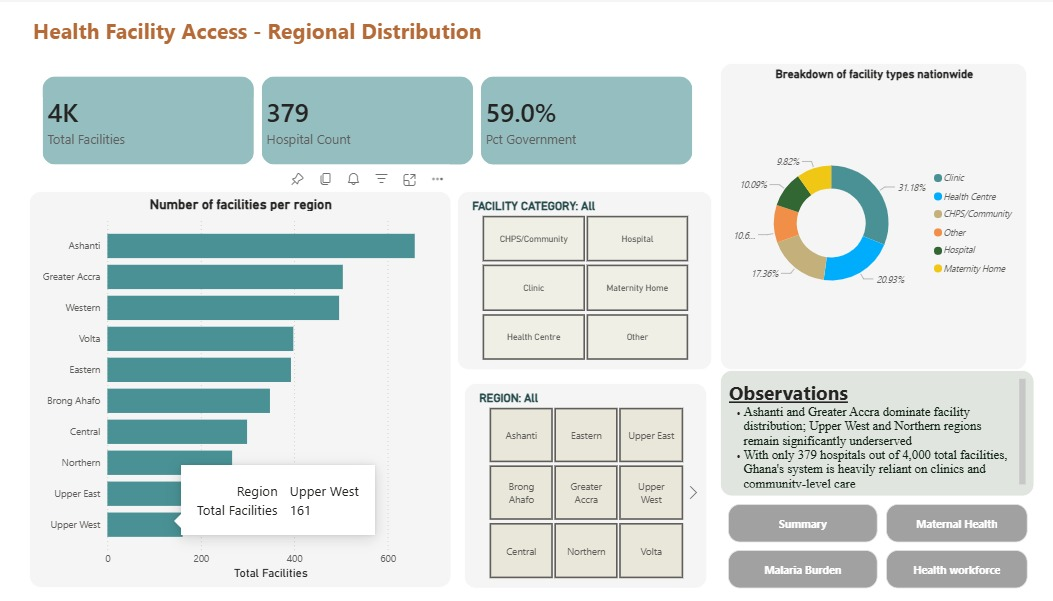

The dashboard page shown, as its layout file describes it:
{"tool":"powerbi","page":{"name":"Facility Access","canvas":[1280,730],"ordinal":0},"visuals":[{"type":"cardVisual","fields":{"Data":["Ghana_Facilities.Total Facilities","Ghana_Facilities.Hospital Count","Ghana_Facilities.Pct Government"]},"box":[15.7,63.9,848.2,144.6],"z":0},{"type":"clusteredBarChart","title":"Number of facilities per region","fields":{"Category":["Ghana_Facilities.Region"],"Y":["Ghana_Facilities.Total Facilities"]},"box":[15.7,224.1,527.7,496.4],"z":1000},{"type":"donutChart","title":"Breakdown of facility types nationwide","fields":{"Category":["Ghana_Facilities.FacilityCategory"],"Y":["Ghana_Facilities.Total Facilities"]},"box":[880,64,384,384],"z":2000},{"type":"slicer","fields":{"Values":["Ghana_Facilities.Region"]},"box":[560.2,463.9,303.6,256.6],"z":3000},{"type":"slicer","fields":{"Values":["Ghana_Facilities.FacilityCategory"]},"box":[551.8,224.1,319.3,224.1],"z":4000},{"type":"textbox","box":[112,0,384,32],"z":5000},{"type":"textbox","box":[16,0,1248,48],"z":6000},{"type":"textbox","box":[880,448,393,158],"z":7000},{"type":"actionButton","box":[890,615,187,48],"z":8000},{"type":"actionButton","box":[1087,615,177,48],"z":9000},{"type":"actionButton","box":[890,672,187,48],"z":10000},{"type":"actionButton","box":[1087,672,177,48],"z":11000}]}

Visuals, with their boxes in screenshot pixels (x1, y1, x2, y2), scaled from the page's 1280x730 canvas onto the 1053x601 screenshot:
cardVisual - Ghana_Facilities.Total Facilities x Ghana_Facilities.Hospital Count: x1=13 y1=53 x2=711 y2=172
"Number of facilities per region" clusteredBarChart: x1=13 y1=184 x2=447 y2=593
"Breakdown of facility types nationwide" donutChart: x1=724 y1=53 x2=1040 y2=369
slicer - Ghana_Facilities.Region: x1=461 y1=382 x2=711 y2=593
slicer - Ghana_Facilities.FacilityCategory: x1=454 y1=184 x2=717 y2=369
textbox: x1=92 y1=0 x2=408 y2=26
textbox: x1=13 y1=0 x2=1040 y2=40
textbox: x1=724 y1=369 x2=1047 y2=499
actionButton: x1=732 y1=506 x2=886 y2=546
actionButton: x1=894 y1=506 x2=1040 y2=546
actionButton: x1=732 y1=553 x2=886 y2=593
actionButton: x1=894 y1=553 x2=1040 y2=593
